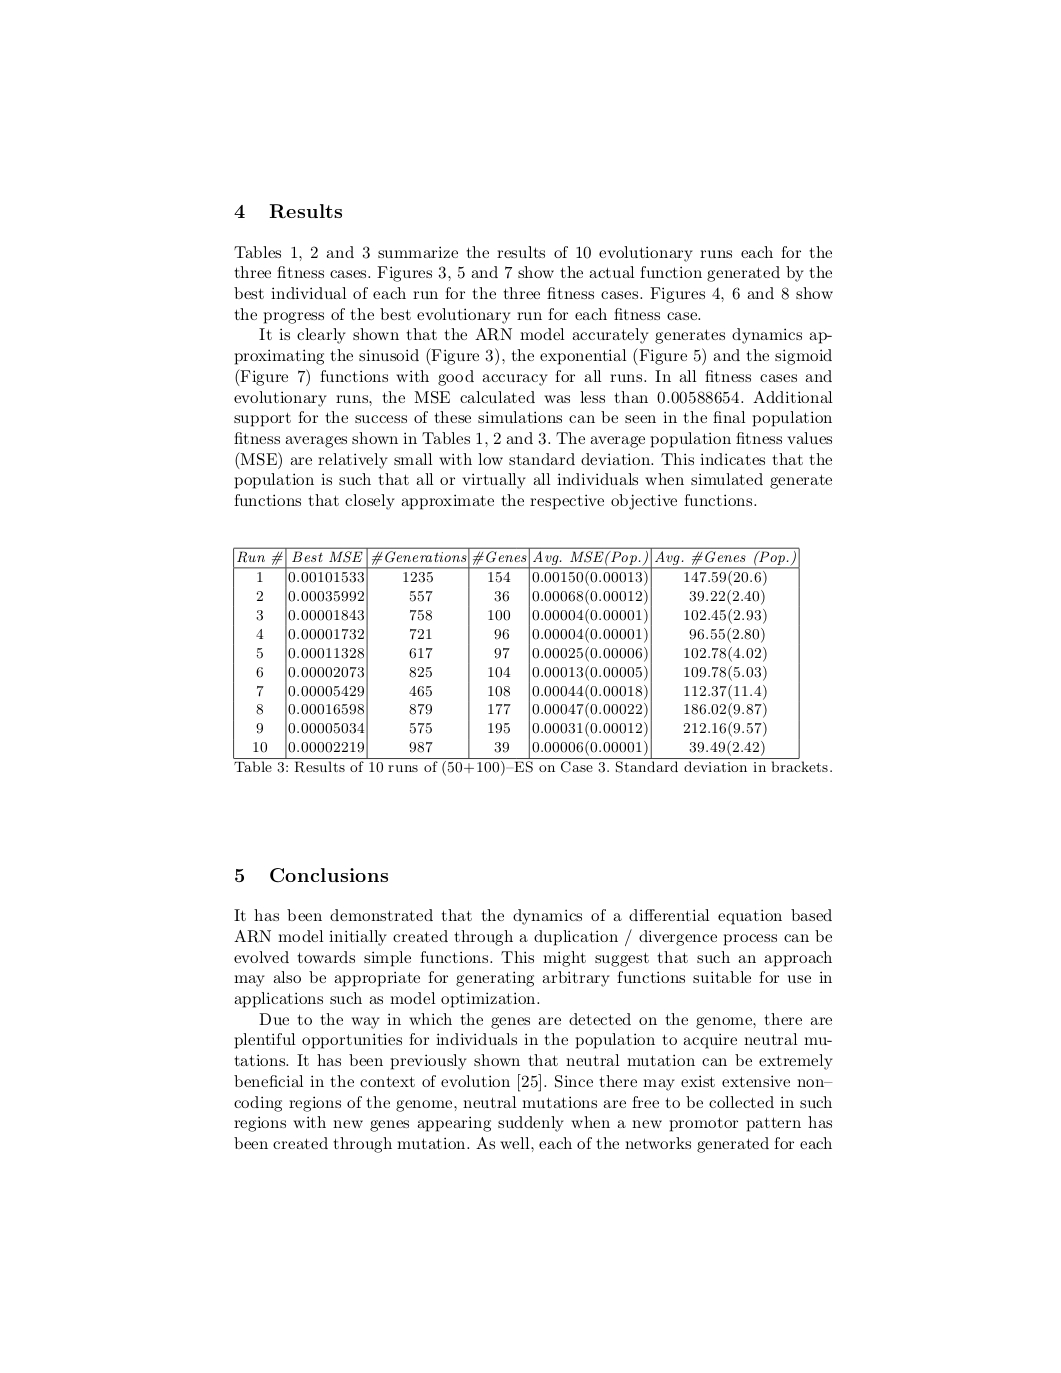Table: (233, 546, 831, 776)
